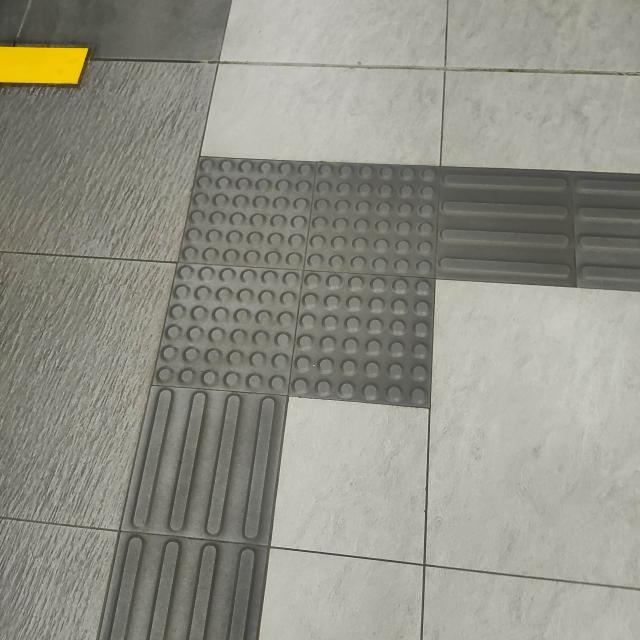kanan: (156, 126, 640, 438)
